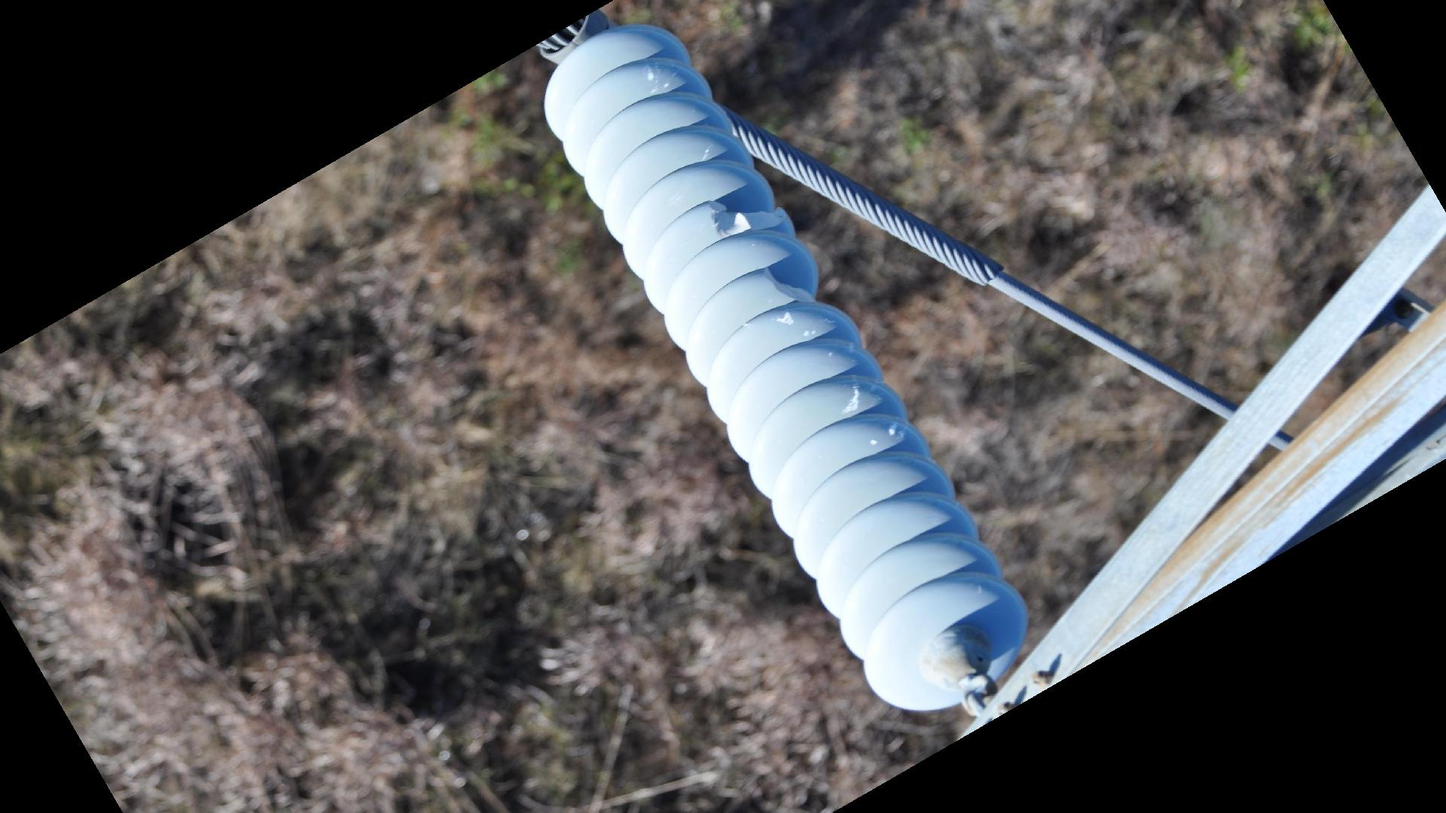insulator: (535, 14, 1037, 722)
insulator_breakage: (702, 194, 792, 242)
